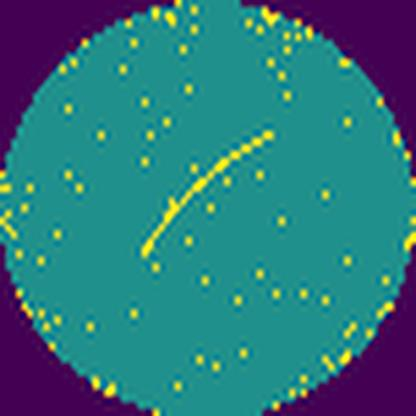Scratch: (134, 124, 280, 262)
